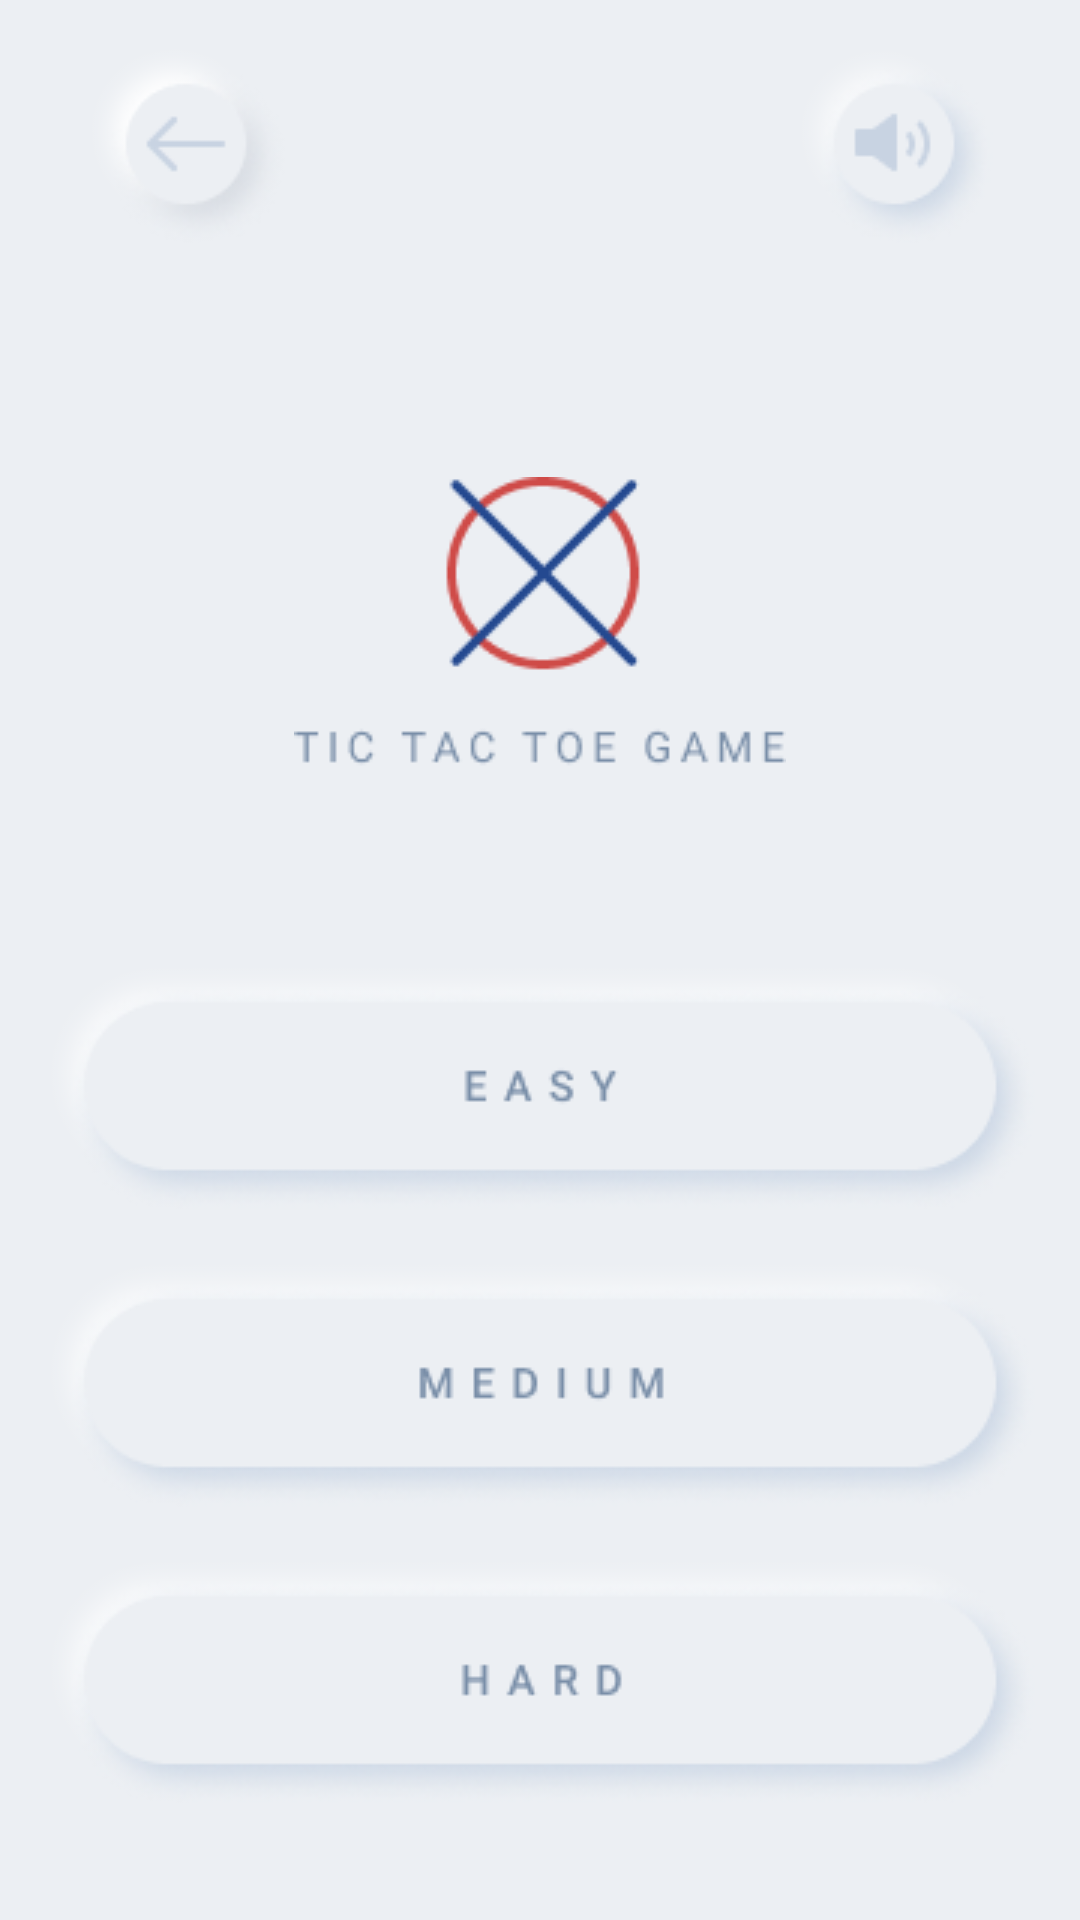

Named icons in this screenshot (1080px x 1920px) and their bounding boxes, (x1, y1, x2, y2):
back states: (148, 118, 224, 170)
sound on states: (856, 115, 957, 207)
